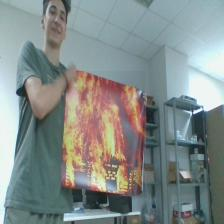fire-poster: (62, 71, 145, 195)
